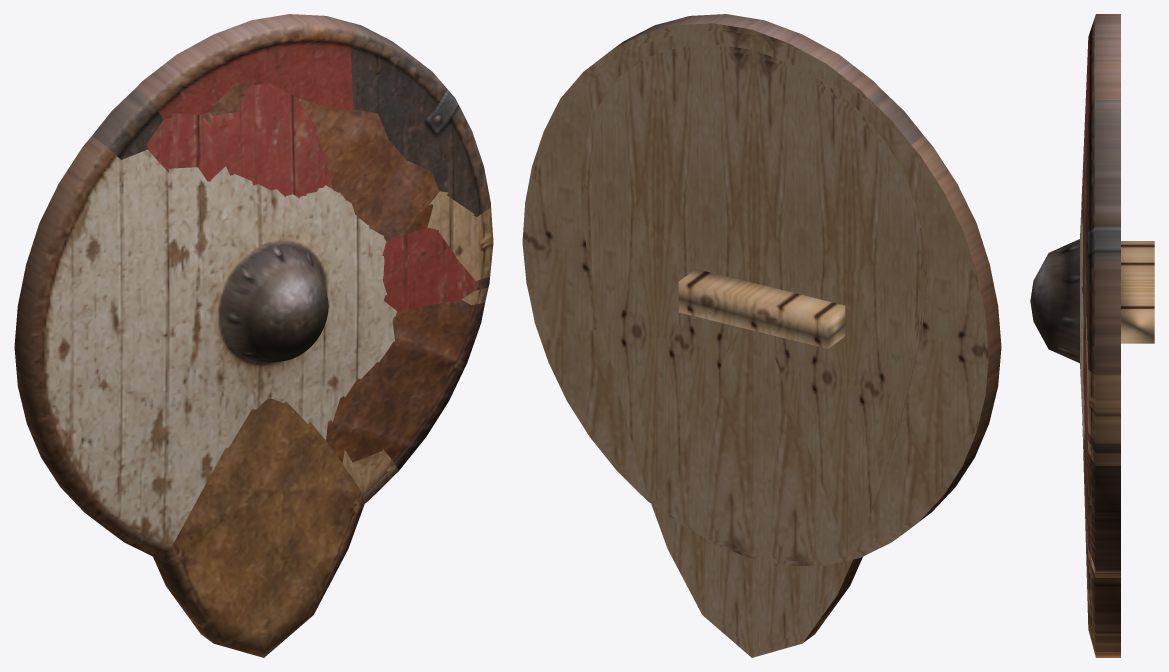
The model's file is spear_shield_variants.glb.
3 renders of one model, left to right at view 1: azimuth 30°, elevation 25°; view 2: azimuth 150°, elevation 25°; view 3: azimuth 270°, elevation 25°, orthographic.
Parts seen in each view (by area): view 1: Shield04, Shield07, Shield02, Shield03, Shield05, Shield06, Shield01; view 2: Shield07, Shield09, Shield05, Shield01, Shield04, Shield06, Shield08, Shield03, Shield02; view 3: Shield05, Shield01, Shield04, Shield02, Shield06, Shield07, Shield03.
Boxes of the visible parts, <box> form: Shield04: <box>14,136,397,559</box>; Shield07: <box>153,398,364,657</box>; Shield02: <box>201,82,484,470</box>; Shield03: <box>146,83,489,310</box>; Shield05: <box>92,20,490,216</box>; Shield06: <box>136,14,354,120</box>; Shield01: <box>342,191,493,503</box>; Shield07: <box>583,51,925,657</box>; Shield09: <box>583,45,924,649</box>; Shield05: <box>523,20,984,558</box>; Shield01: <box>522,28,982,560</box>; Shield04: <box>527,30,1001,565</box>; Shield06: <box>524,14,985,559</box>; Shield08: <box>581,49,927,656</box>; Shield03: <box>523,26,984,561</box>; Shield02: <box>524,25,986,561</box>; Shield05: <box>1086,100,1120,375</box>; Shield01: <box>1085,241,1154,577</box>; Shield04: <box>1030,146,1084,459</box>; Shield02: <box>1082,62,1120,570</box>; Shield06: <box>1086,14,1120,170</box>; Shield07: <box>1082,422,1120,657</box>; Shield03: <box>1082,75,1120,453</box>.
Size of the model in its own units: 0.7009 by 0.9025 by 0.163.
Materials: 1 (1 with a texture image).
